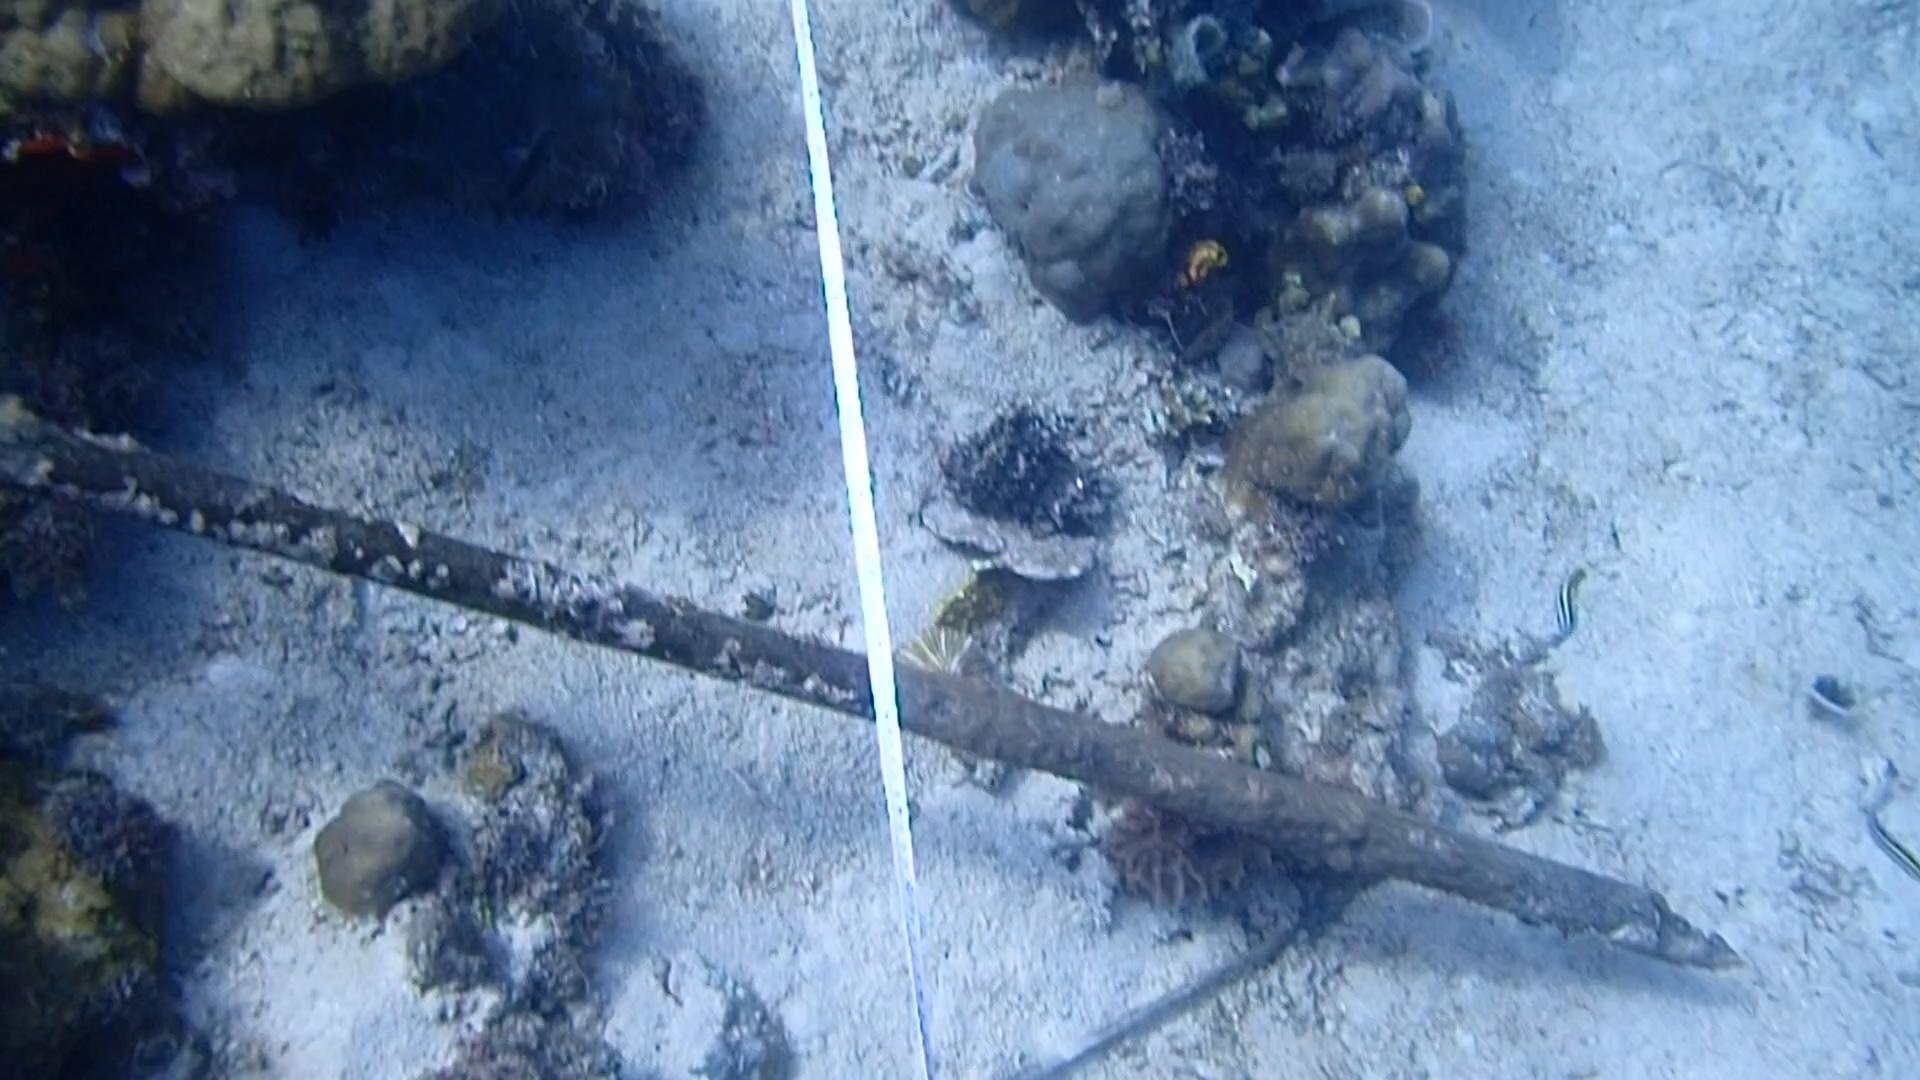Dark Fish: (492, 115, 567, 204)
Striped Fish: (1535, 559, 1597, 644), (1857, 803, 1920, 878)
